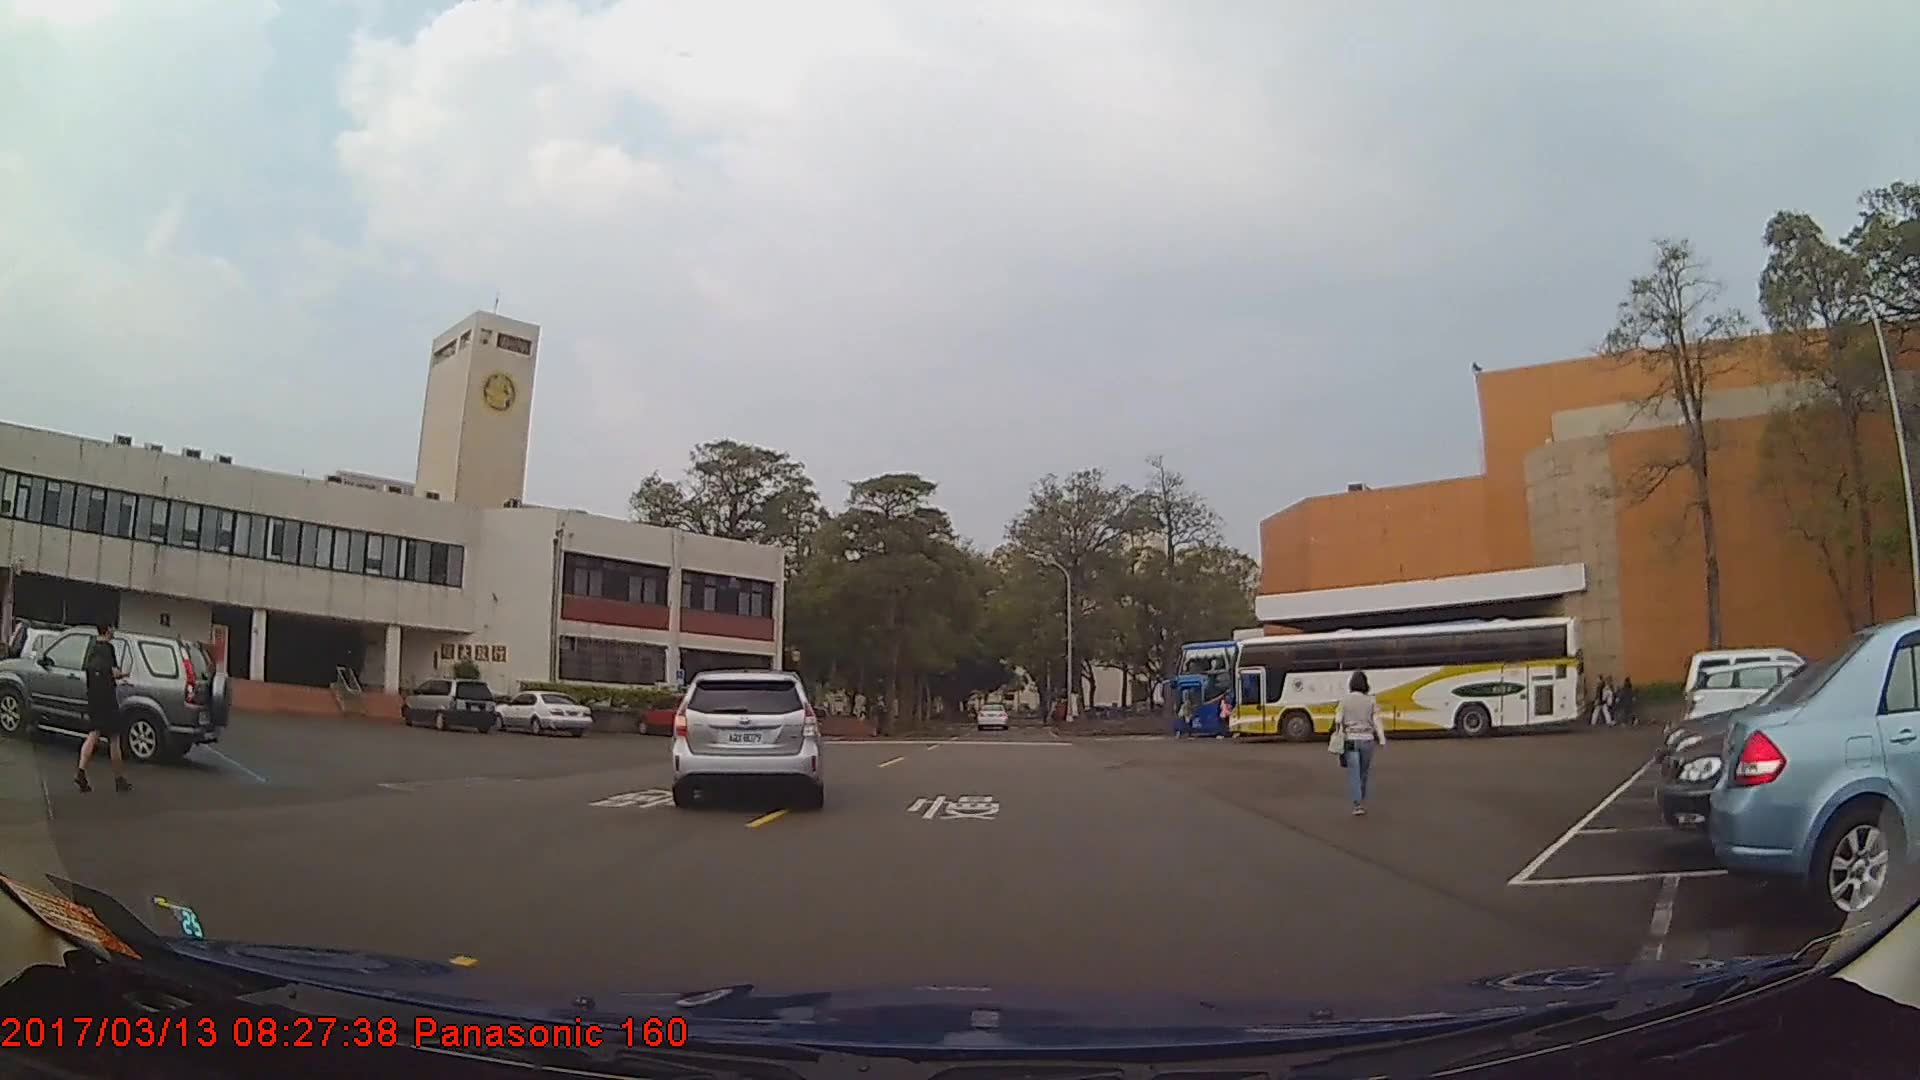pedestrian: (74, 609, 131, 792), (1330, 667, 1382, 815), (1615, 669, 1644, 731)
vehicle: (1708, 614, 1920, 928), (1225, 615, 1584, 745), (2, 625, 231, 762), (1168, 638, 1469, 736), (672, 666, 821, 807), (1685, 660, 1849, 741), (399, 675, 495, 730), (490, 688, 593, 735), (635, 691, 707, 734), (976, 703, 1009, 731)
